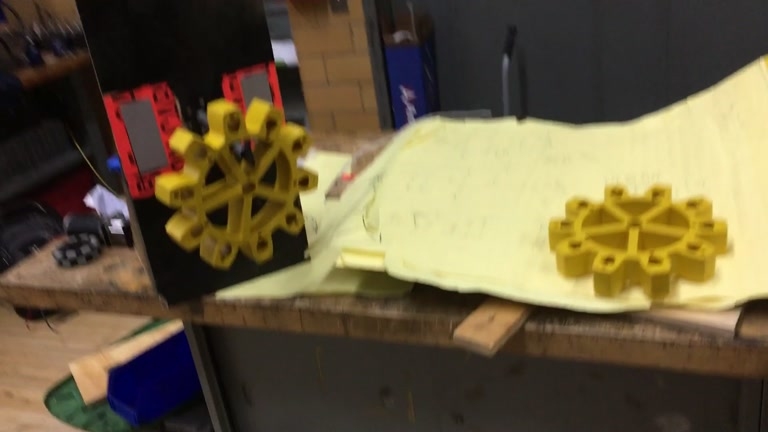gear: (154, 97, 319, 268), (546, 181, 727, 297)
